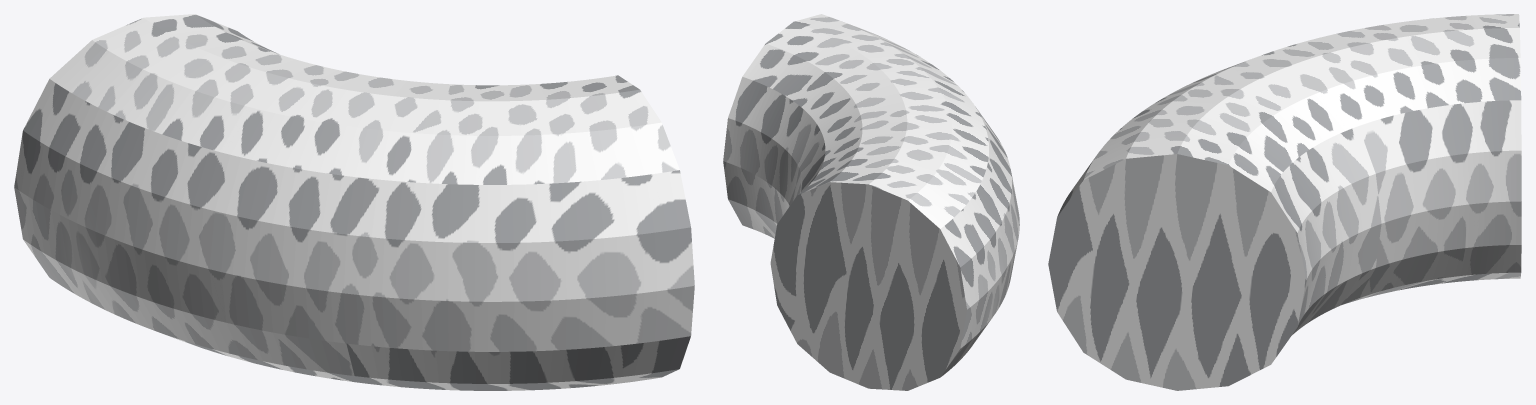
Rendered from snek_preopognjen_texture.gltf.
3 views of the same model, side by side, from view 1: azimuth 30°, elevation 25°; view 2: azimuth 150°, elevation 25°; view 3: azimuth 270°, elevation 25° (orthographic). The views are drawn at different scales.
Visible parts, largest first — view 1: Cube; view 2: Cube; view 3: Cube.
Boxes of the visible parts, box(x1,y1,x2,y2) form: Cube: box(14, 14, 694, 390); Cube: box(723, 14, 1019, 390); Cube: box(1048, 14, 1521, 390).
Size of the model in its own units: 7.81 by 4.55 by 8.24.
1 material, 1 textured.
